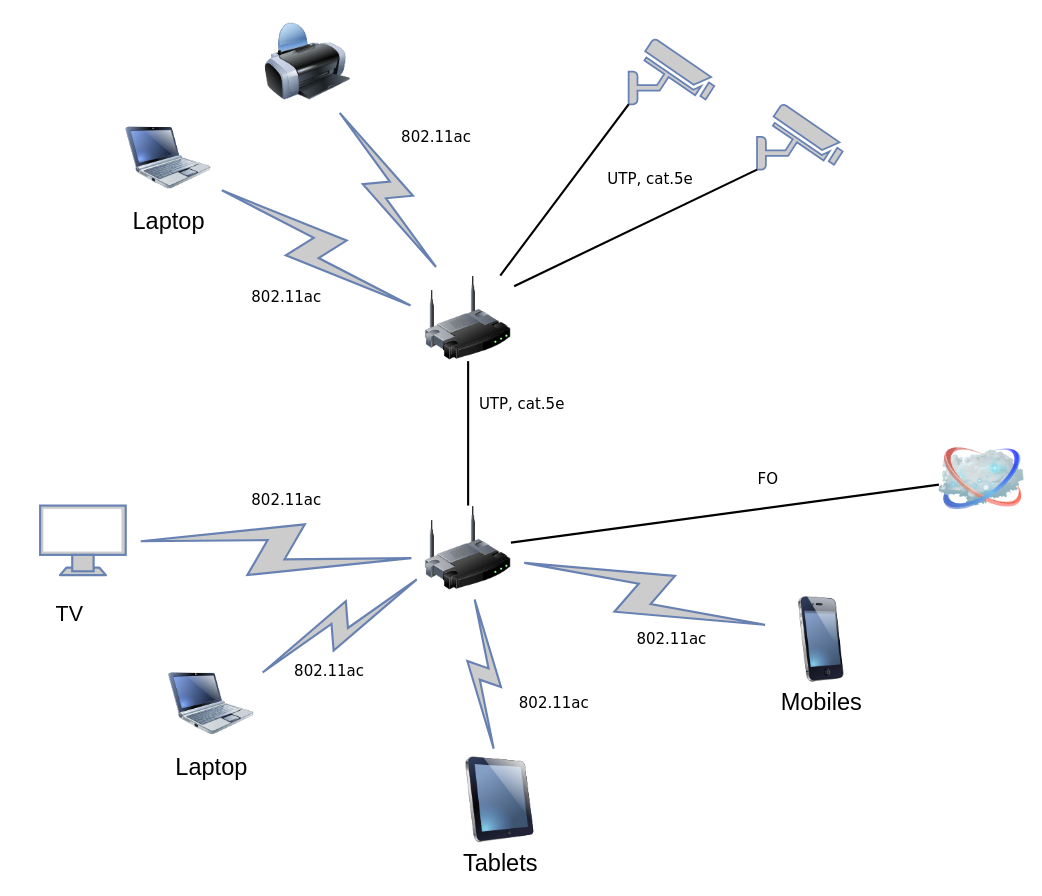
Some shapes in this 1042 by 896 pixel diagram are drawn without their labels. Here are the shapes that lost their labels. From the top down, the box of each, then its label:
(264, 18, 350, 104): Printer
(938, 435, 1024, 521): Internet
